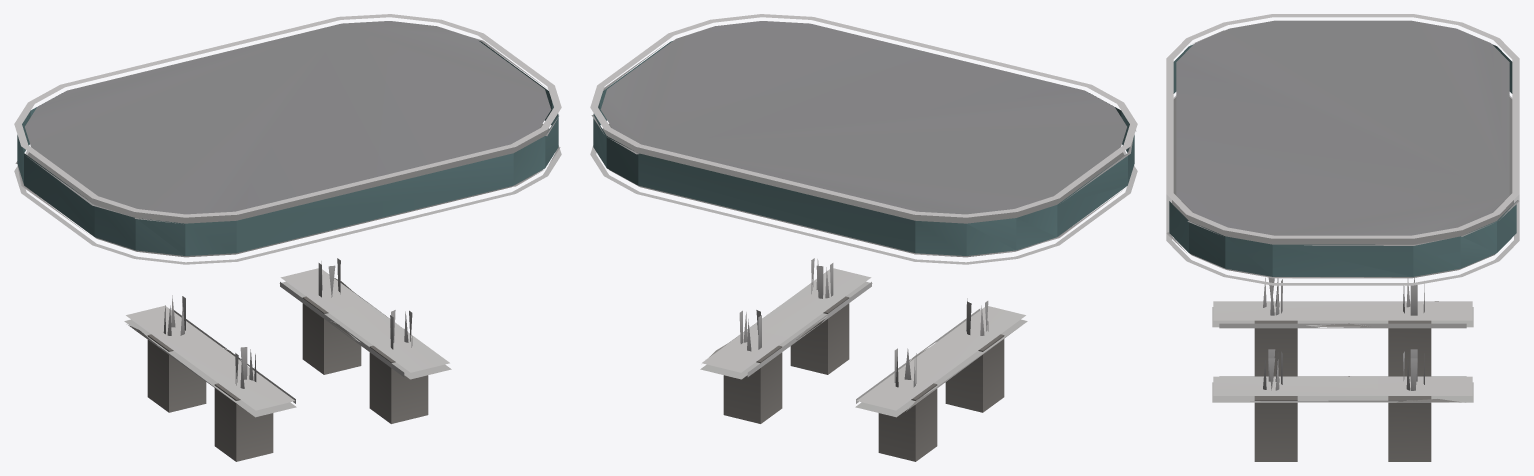
The model's file is canopy.lod.glb.
The picture shows the model from 3 angles, left to right: view 1: azimuth 30°, elevation 25°; view 2: azimuth 150°, elevation 25°; view 3: azimuth 270°, elevation 25°; orthographic projection.
Visible parts, largest first — view 1: canopy.001; view 2: canopy.001; view 3: canopy.001.
Part boxes in pixels (x1,y1,x2,y2): canopy.001: (14,14,561,461); canopy.001: (590,14,1137,461); canopy.001: (1166,14,1519,461).
Size of the model in its own units: 11.94 by 7.16 by 7.94.
